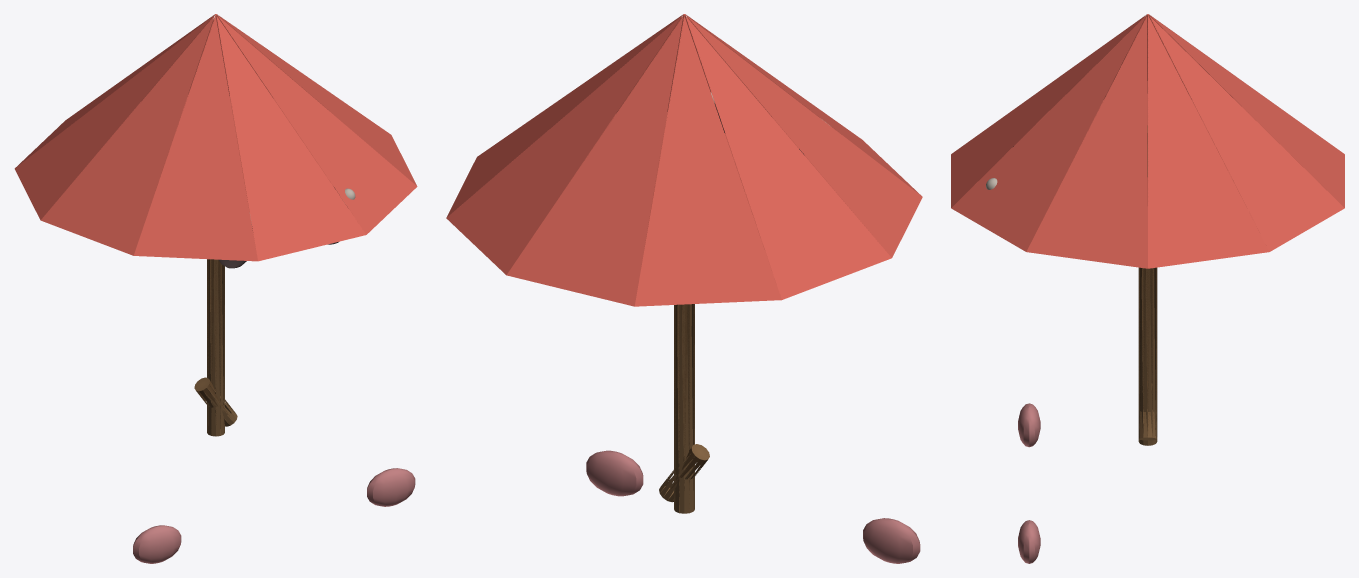
3 views of the same model, side by side, from view 1: azimuth 30°, elevation 25°; view 2: azimuth 150°, elevation 25°; view 3: azimuth 270°, elevation 25° (orthographic). The views are drawn at different scales.
Visible parts, largest first — view 1: pet_p5b27b376; view 2: pet_p5b27b376; view 3: pet_p5b27b376.
Boxes of the visible parts, left/top/right/bottom form: pet_p5b27b376: left=14, top=14, right=417, bottom=563; pet_p5b27b376: left=446, top=14, right=922, bottom=563; pet_p5b27b376: left=951, top=14, right=1344, bottom=563.
Bounding box in the file's own units: 0.36 × 0.4676 × 0.3424.
